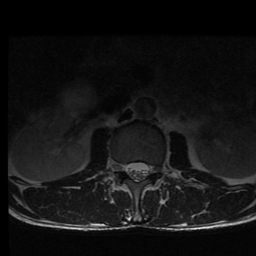CCS_normal: (132, 157, 141, 187)
LFS_normal: (149, 159, 157, 179)
LLS_normal: (141, 157, 149, 181)
RFS_normal: (116, 158, 125, 179)
RLS_normal: (125, 158, 133, 181)
